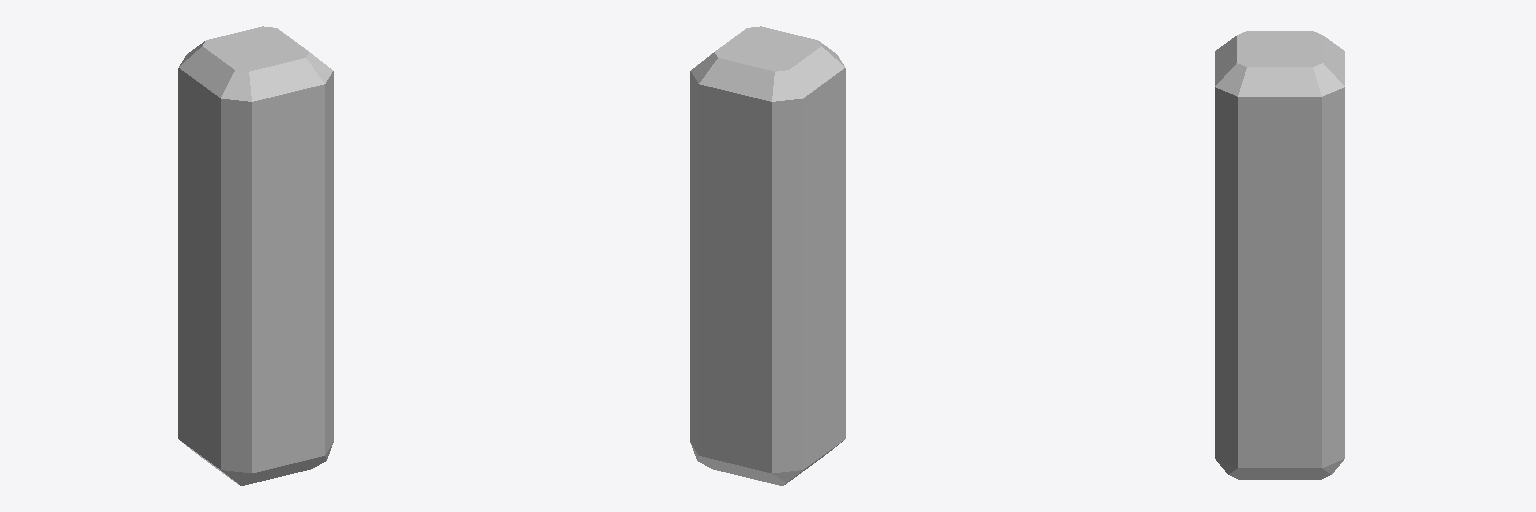
Rendered from monolith.obj.
3 renders of one model, left to right at view 1: azimuth 30°, elevation 25°; view 2: azimuth 150°, elevation 25°; view 3: azimuth 270°, elevation 25°, orthographic.
Visible parts, largest first — view 1: Cube.009_Cube; view 2: Cube.009_Cube; view 3: Cube.009_Cube.
Boxes of the visible parts, x1=… form: Cube.009_Cube: x1=178, y1=26, x2=333, y2=485; Cube.009_Cube: x1=690, y1=26, x2=845, y2=485; Cube.009_Cube: x1=1215, y1=31, x2=1344, y2=479.
Bounding box in the file's own units: 1 × 3.5 × 1.